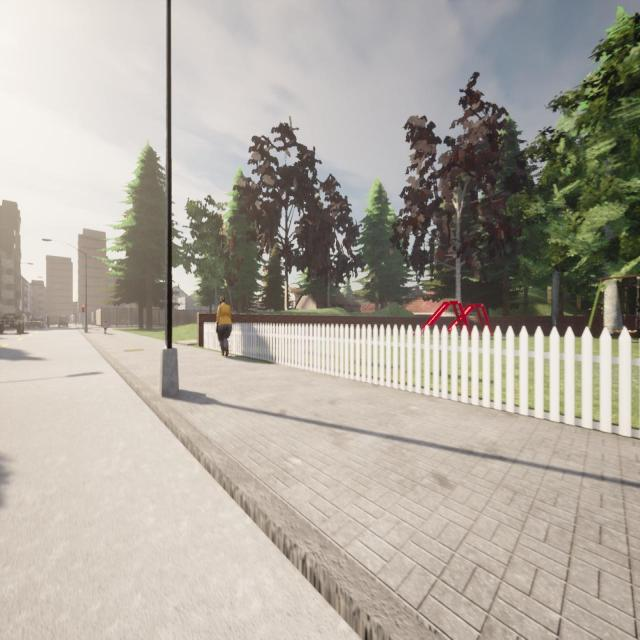Pedestrian: (216, 296, 232, 357), (103, 321, 108, 334)
Vehicle: (0, 312, 25, 335), (27, 316, 44, 328), (58, 318, 68, 328)
traffic_light: (82, 304, 84, 312)
